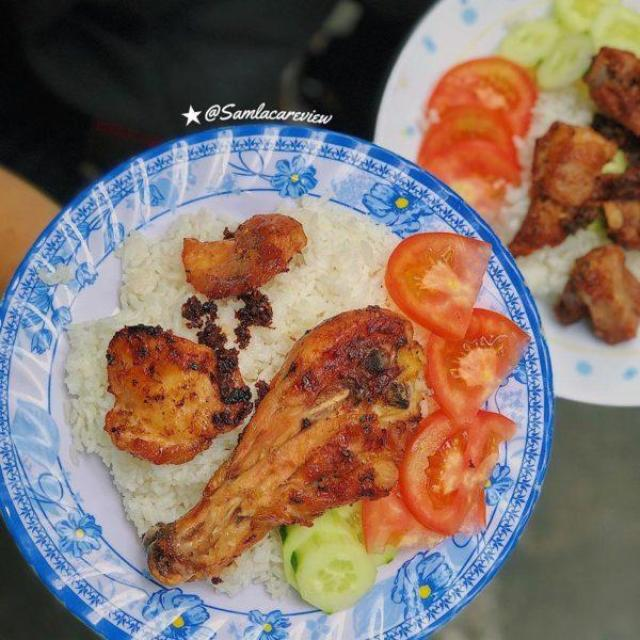ca chua: (398, 308, 528, 534), (417, 57, 537, 223), (384, 233, 490, 338), (361, 494, 445, 553)
com: (64, 205, 250, 535), (238, 195, 399, 400)
dua leo: (279, 505, 396, 613), (497, 0, 617, 90)
ga chien: (149, 306, 426, 581), (510, 47, 639, 345), (105, 325, 249, 464), (510, 122, 617, 255), (181, 213, 306, 299), (614, 175, 639, 205)
